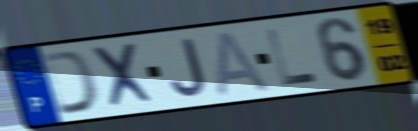6: (314, 15, 370, 84)
A: (215, 28, 273, 98)
D: (39, 48, 101, 118)
J: (167, 35, 210, 100)
L: (264, 27, 322, 88)
X: (87, 41, 160, 111)
